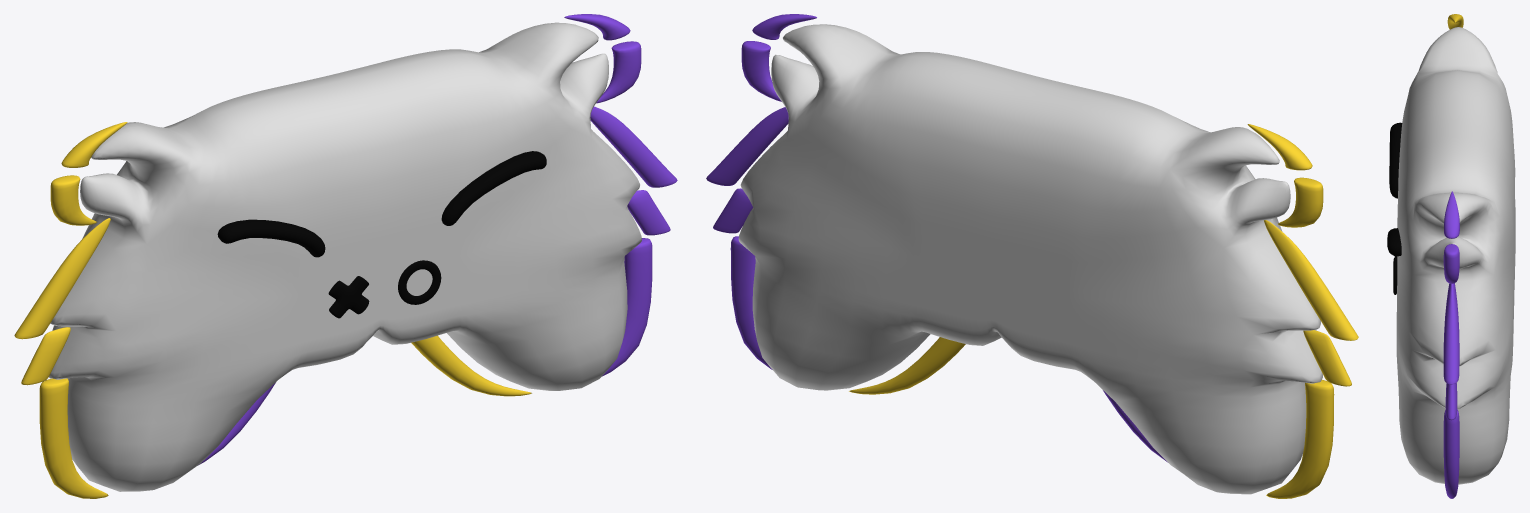
Rendered from chigu3danim.glb.
The picture shows the model from 3 angles, left to right: view 1: azimuth 30°, elevation 25°; view 2: azimuth 150°, elevation 25°; view 3: azimuth 270°, elevation 25°; orthographic projection. The views are drawn at different scales.
Parts seen in each view (by area): view 1: chigu; view 2: chigu; view 3: chigu.
Part boxes in pixels (x1=…): chigu: x1=14, y1=14, x2=677, y2=498; chigu: x1=706, y1=14, x2=1358, y2=498; chigu: x1=1387, y1=14, x2=1515, y2=498.
Bounding box in the file's own units: 6.21 × 3.34 × 1.32.
